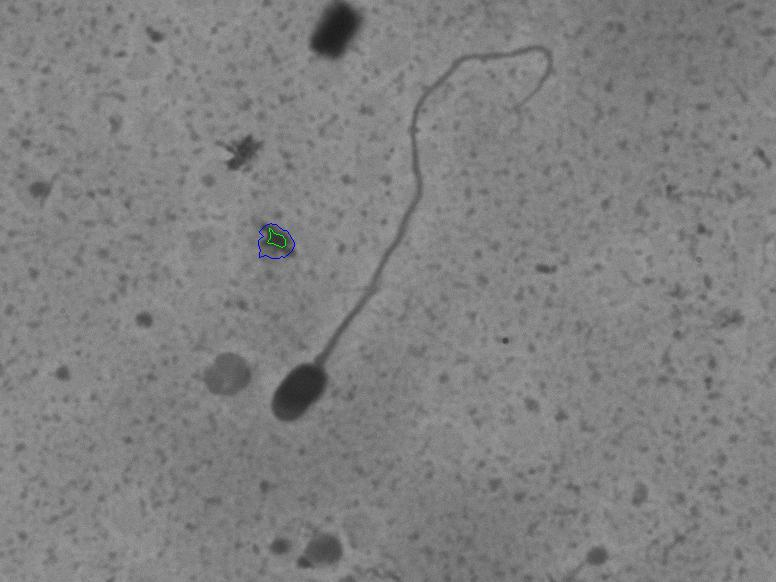Abnormal: (261, 35, 581, 457)
